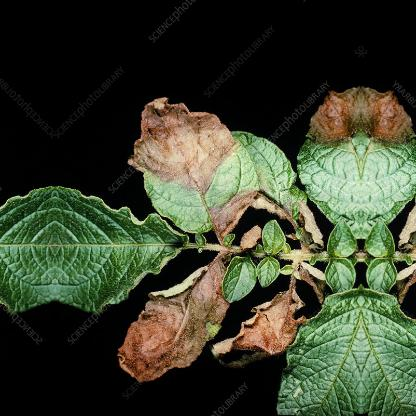Late-Blight: (57, 70, 360, 416), (119, 86, 251, 244), (117, 244, 229, 382), (209, 264, 317, 382), (283, 78, 359, 224), (362, 78, 416, 224)
